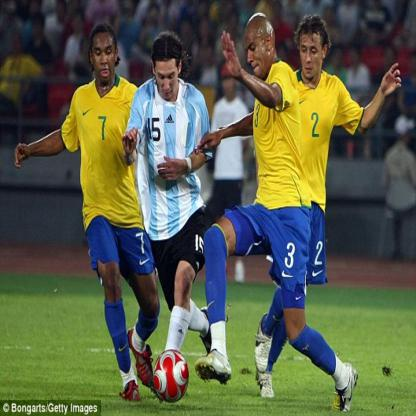face: (155, 60, 180, 103), (247, 28, 268, 78), (301, 33, 322, 81), (94, 38, 116, 83)
